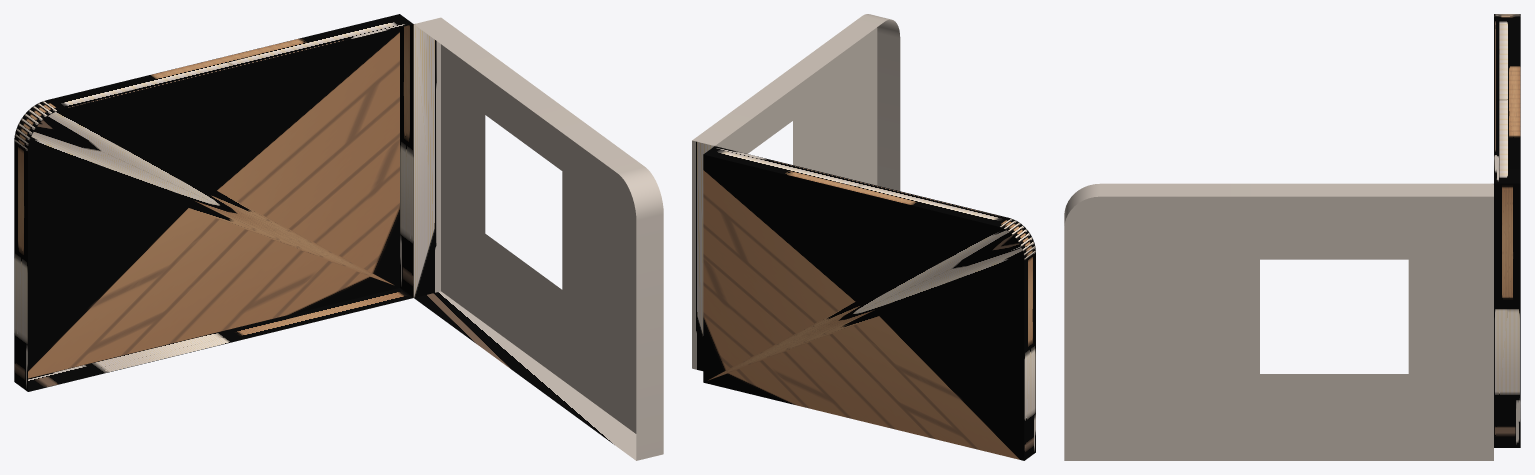
Rendered from wall2.fbx.
3 renders of one model, left to right at view 1: azimuth 30°, elevation 25°; view 2: azimuth 150°, elevation 25°; view 3: azimuth 270°, elevation 25°, orthographic. The views are drawn at different scales.
Parts seen in each view (by area): view 1: Cube.036, Cube.004; view 2: Cube.036, Cube.004; view 3: Cube.004, Cube.036.
Boxes of the visible parts, <box> form: Cube.036: <box>14,14,413,391</box>; Cube.004: <box>413,17,663,460</box>; Cube.036: <box>703,146,1035,460</box>; Cube.004: <box>692,14,900,370</box>; Cube.004: <box>1064,183,1493,460</box>; Cube.036: <box>1494,14,1520,447</box>.
Size of the model in its own units: 1070 by 678 by 1061.
